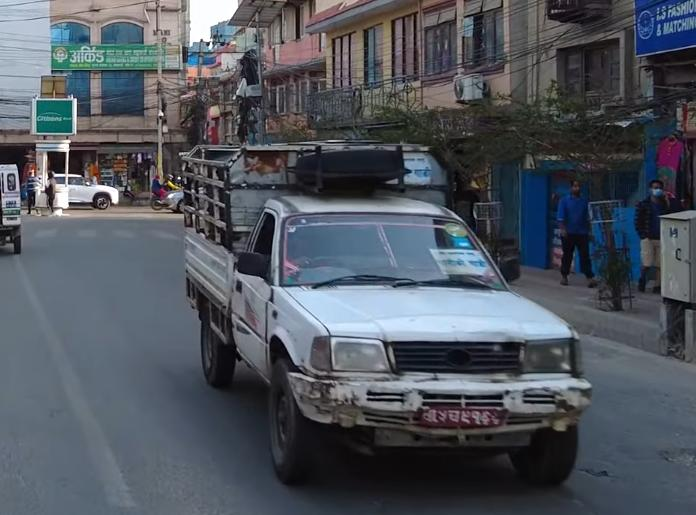car: (36, 164, 124, 213)
transport_vehicle: (175, 135, 605, 493)
